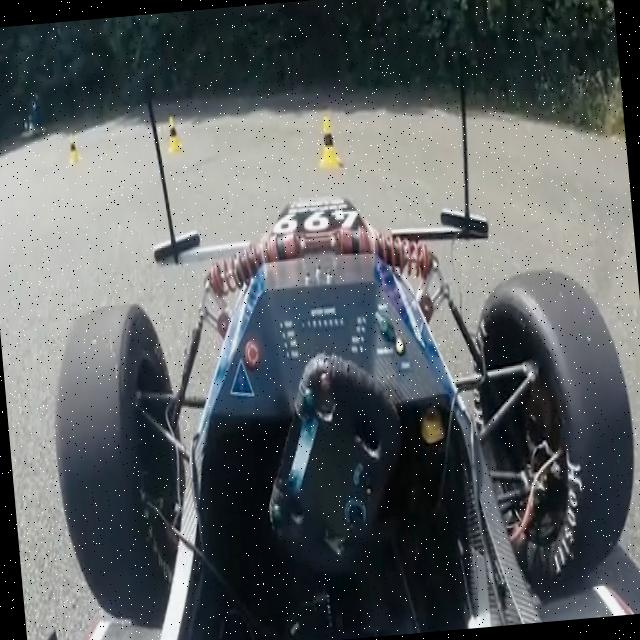yellow_cone: (312, 111, 350, 182), (160, 114, 187, 159), (65, 128, 87, 164)
